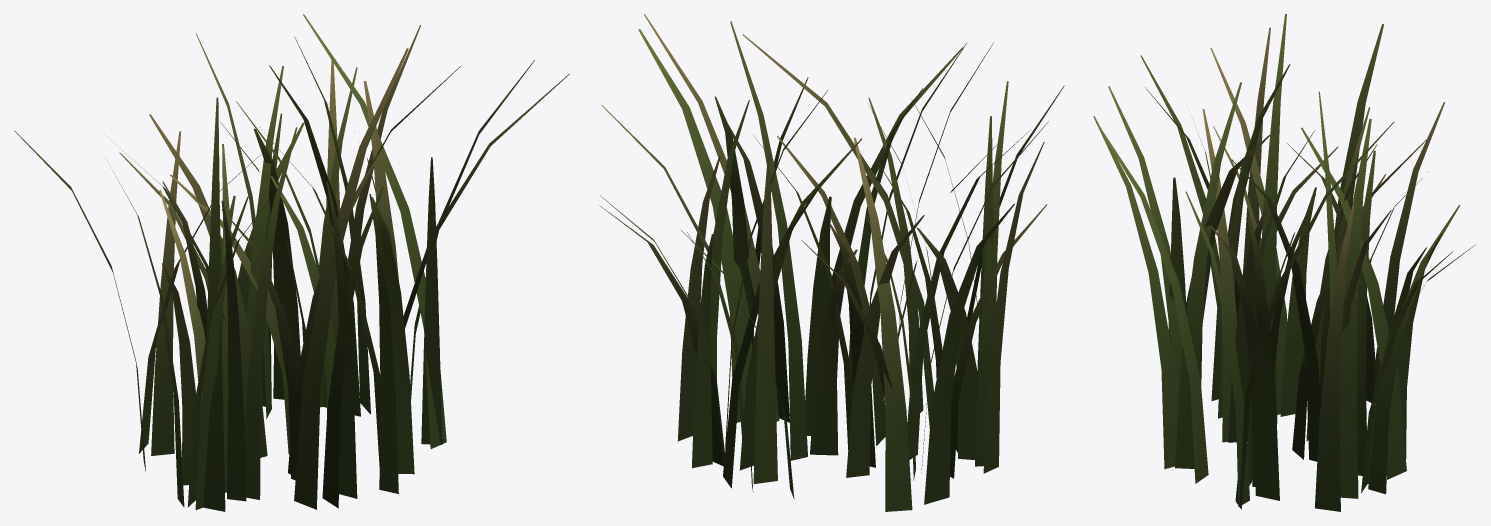
Rendered from fen_reeds_01.glb.
The picture shows the model from 3 angles, left to right: view 1: azimuth 30°, elevation 25°; view 2: azimuth 150°, elevation 25°; view 3: azimuth 270°, elevation 25°; orthographic projection. The views are drawn at different scales.
Parts seen in each view (by area): view 1: fen_reeds_01; view 2: fen_reeds_01; view 3: fen_reeds_01.
Part boxes in pixels (x1,y1,x2,y2): fen_reeds_01: [14, 14, 569, 511]; fen_reeds_01: [599, 14, 1064, 511]; fen_reeds_01: [1093, 14, 1476, 511].
Size of the model in its own units: 1 by 0.7993 by 0.7623.
